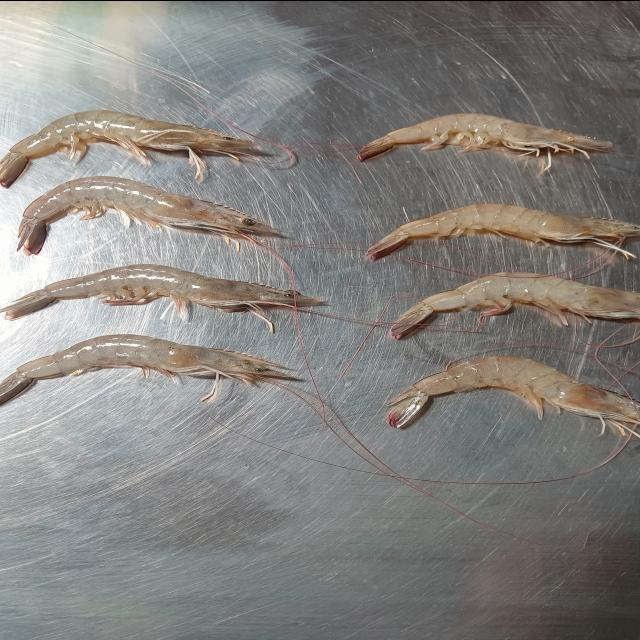shrimp: (18, 175, 281, 254), (0, 334, 292, 402), (387, 355, 638, 434), (0, 110, 252, 186), (2, 264, 321, 319), (390, 271, 640, 339), (367, 204, 638, 259), (359, 114, 609, 159)
